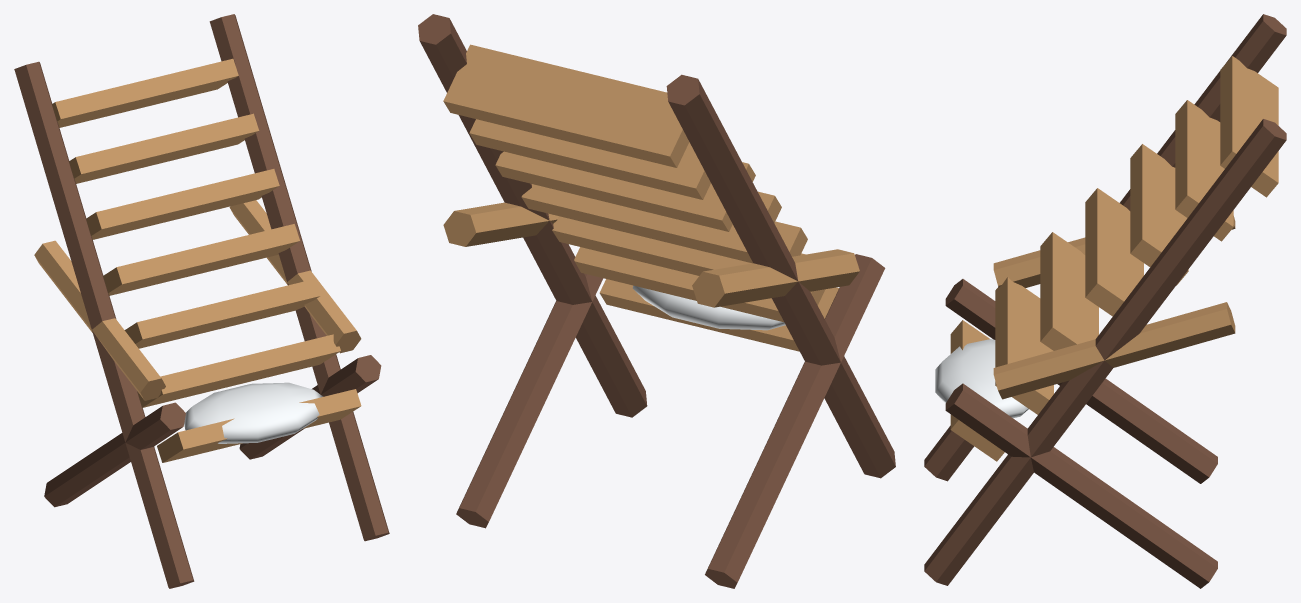
The model's file is alpine-snow-village-slatted-alpine-deckchair-f1c6bffe.glb.
The picture shows the model from 3 angles, left to right: view 1: azimuth 30°, elevation 25°; view 2: azimuth 150°, elevation 25°; view 3: azimuth 270°, elevation 25°; orthographic projection. The views are drawn at different scales.
Parts seen in each view (by area): view 1: slatted-alpine-deckchair-oak, slatted-alpine-deckchair-wood, slatted-alpine-deckchair-snow; view 2: slatted-alpine-deckchair-oak, slatted-alpine-deckchair-wood, slatted-alpine-deckchair-snow; view 3: slatted-alpine-deckchair-oak, slatted-alpine-deckchair-wood, slatted-alpine-deckchair-snow.
Boxes of the visible parts, x1,y1,x2,y2 form: slatted-alpine-deckchair-oak: [34, 58, 361, 462]; slatted-alpine-deckchair-wood: [14, 14, 389, 588]; slatted-alpine-deckchair-snow: [184, 382, 322, 443]; slatted-alpine-deckchair-oak: [443, 44, 859, 351]; slatted-alpine-deckchair-wood: [418, 14, 895, 588]; slatted-alpine-deckchair-snow: [632, 285, 785, 330]; slatted-alpine-deckchair-oak: [950, 56, 1278, 461]; slatted-alpine-deckchair-wood: [924, 14, 1286, 588]; slatted-alpine-deckchair-snow: [935, 339, 1028, 418].
Size of the model in its own units: 0.7701 by 1.4 by 0.9941.
